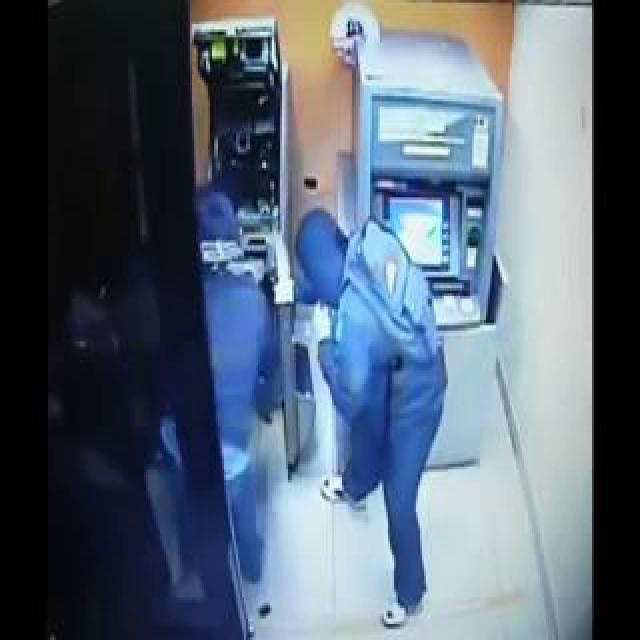burglary: (118, 0, 548, 616)
